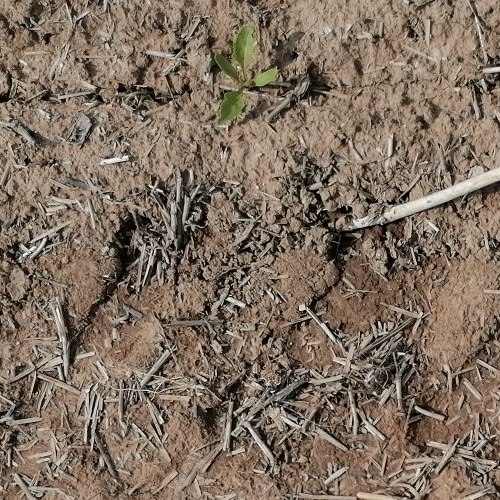beet: (213, 24, 280, 126)
